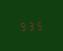five: (35, 19, 42, 30)
nine: (18, 20, 25, 31)
three: (27, 20, 34, 30)
